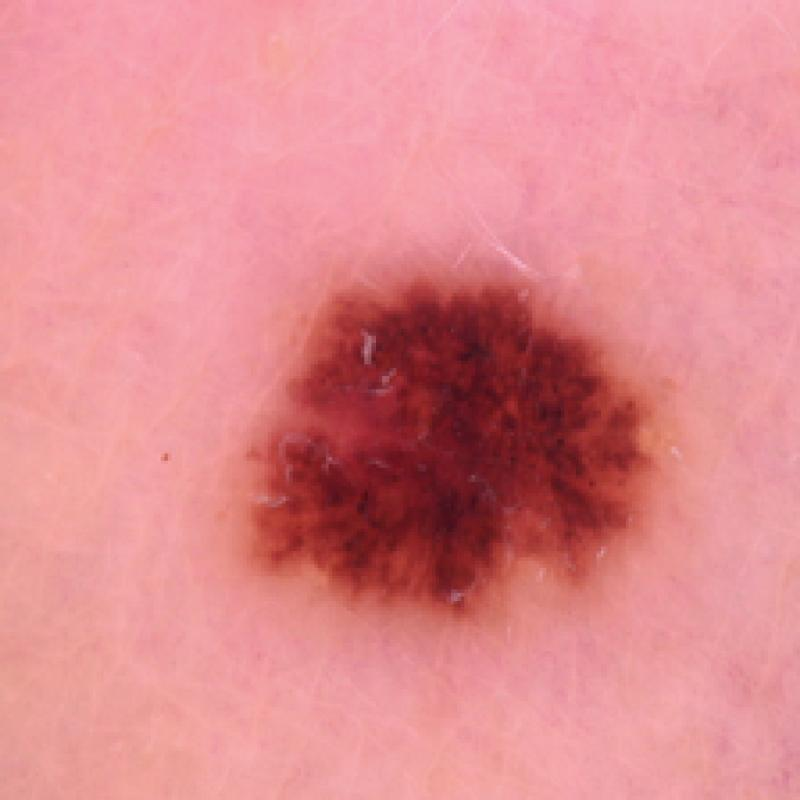benign: (206, 239, 688, 671)
